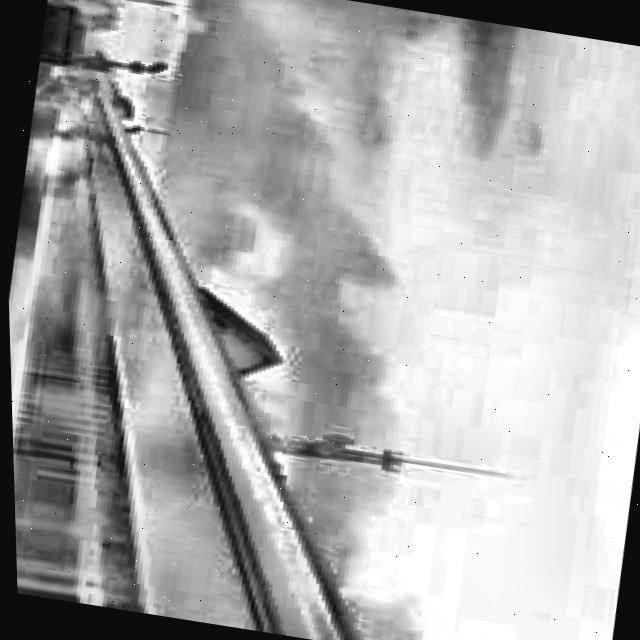Kereta: (4, 167, 640, 640), (16, 49, 200, 224)
